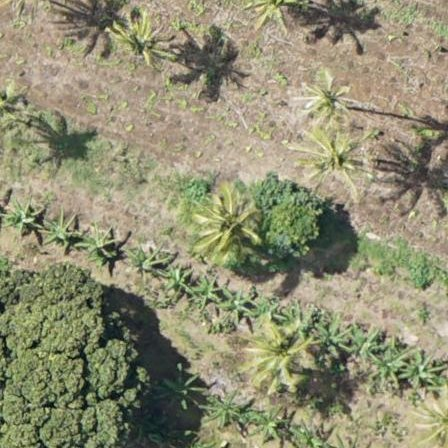palm_tree: (241, 317, 313, 387), (193, 185, 260, 257), (105, 7, 169, 75), (299, 128, 367, 191), (296, 69, 359, 131)
